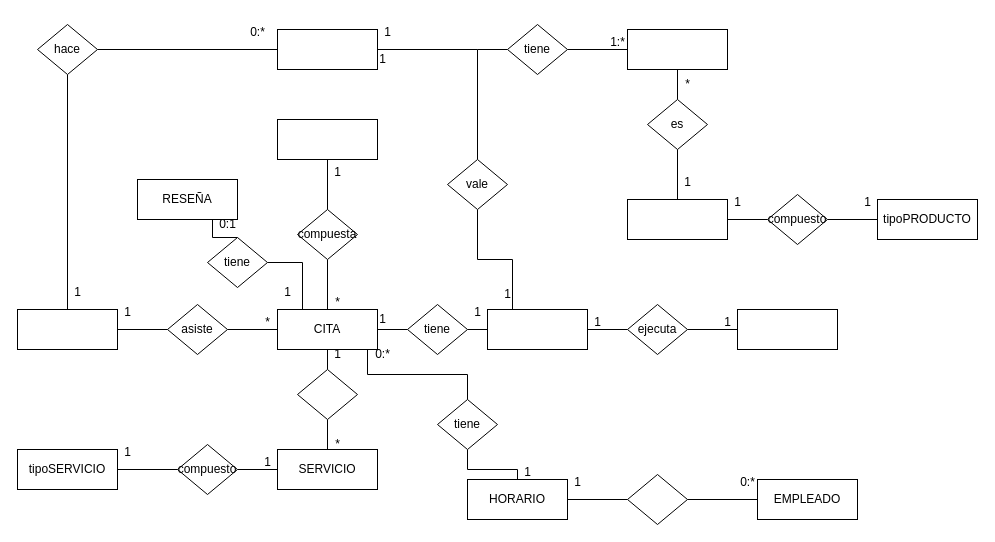
Some shapes in this 995 by 542 pixel diagram are drawn without their labels. The centre of each missing label's shape, as x and y in pixels:
"ARTICULO" belongs at pixel 677 49.
"CLIENTE" belongs at pixel 67 329.
"COMPRA" belongs at pixel 327 49.
"METODO_PAGO" belongs at pixel 787 329.
"PAGO" belongs at pixel 537 329.
"PRODUCTO" belongs at pixel 677 219.
"realizado" belongs at pixel 327 394.
"RESERVA" belongs at pixel 327 139.
"trabaja" belongs at pixel 657 499.
